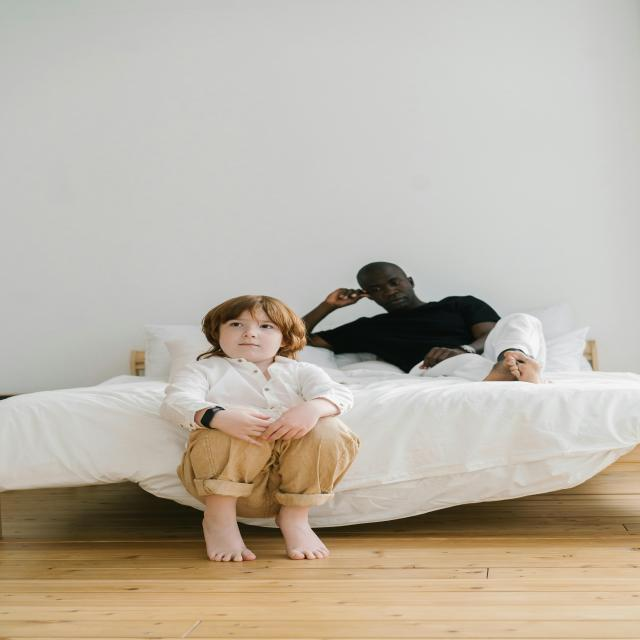lie: (302, 259, 550, 386)
sit: (166, 288, 357, 568)
